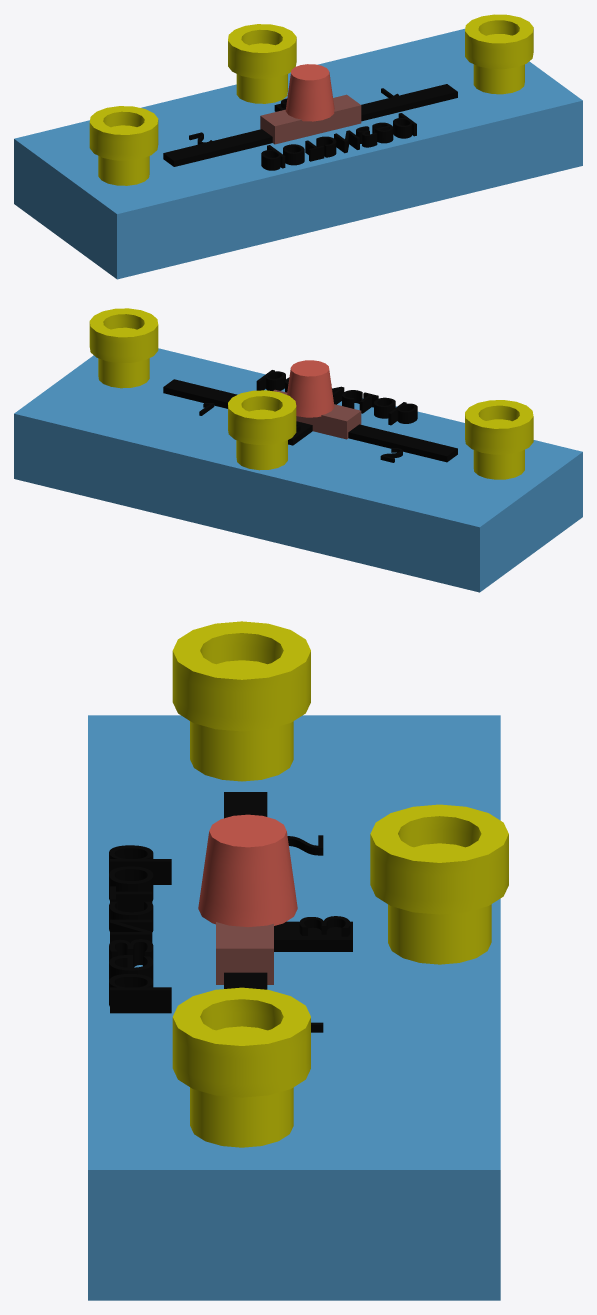
The model's file is Резистор переменный.fbx.
The picture shows the model from 3 angles, top to bottom: view 1: azimuth 30°, elevation 25°; view 2: azimuth 150°, elevation 25°; view 3: azimuth 270°, elevation 25°; orthographic projection. The views are drawn at different scales.
Visible parts, largest first — view 1: Конус; view 2: Конус; view 3: Конус.
Part boxes in pixels (x1,y1,x2,y2): Конус: (14, 14, 582, 279); Конус: (14, 308, 582, 592); Конус: (88, 621, 508, 1300).
Bounding box in the file's own units: 521 × 130 × 204.
